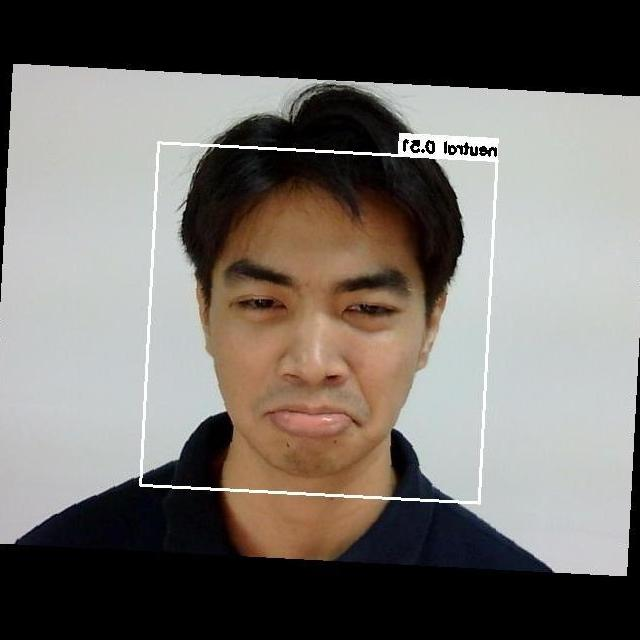Sad: (201, 223, 434, 462)
